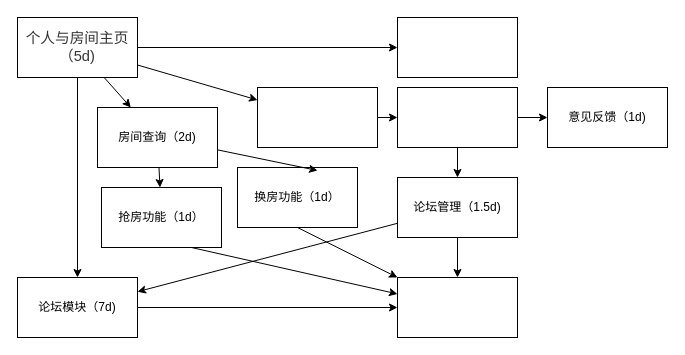
Some shapes in this 685 by 355 pixel diagram are drawn without their labels. The centre of each missing label's shape, as x and y in pixels:
"AI功能（3d)" belongs at (x=457, y=307).
"学生管理（1d)" belongs at (x=457, y=117).
"宿舍管理（2d）" belongs at (x=317, y=117).
"登录注册功能 （3d）" belongs at (x=457, y=47).
